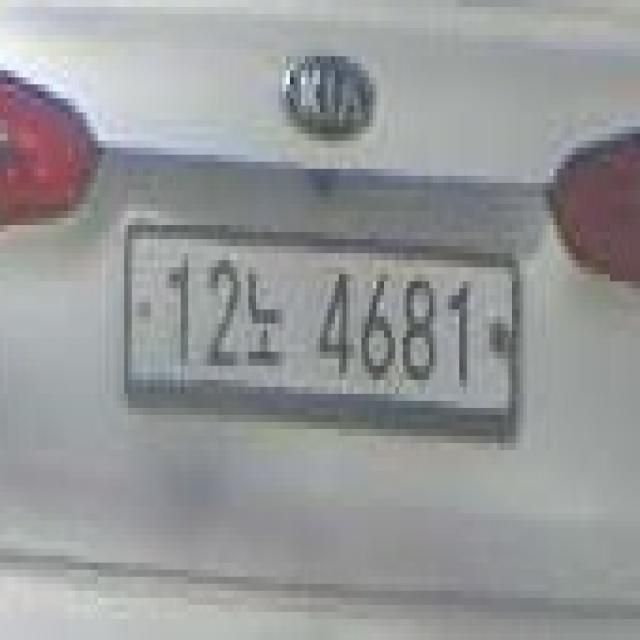1: (437, 267, 478, 408), (162, 239, 199, 380)
2: (199, 246, 241, 387)
4: (316, 260, 362, 387)
6: (361, 274, 399, 394)
8: (399, 274, 448, 394)
license_plate: (117, 211, 531, 471)
no: (245, 260, 286, 387)
